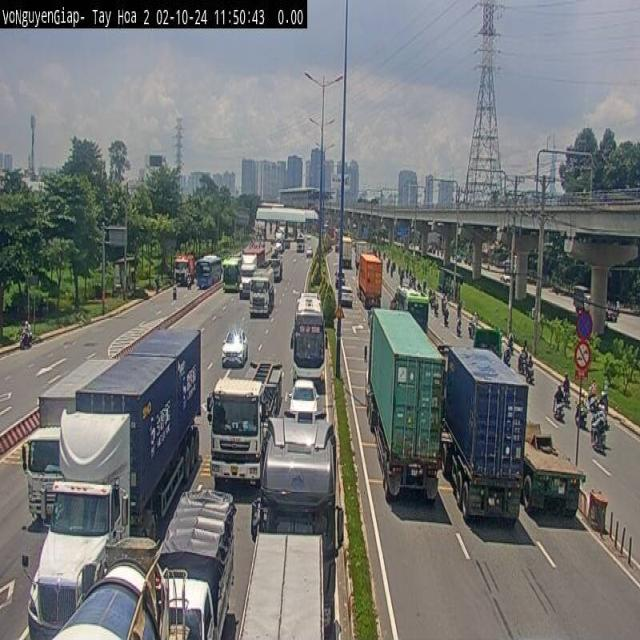container-truck: (438, 343, 528, 525), (364, 306, 445, 502)
motorcycle: (19, 328, 33, 350)
